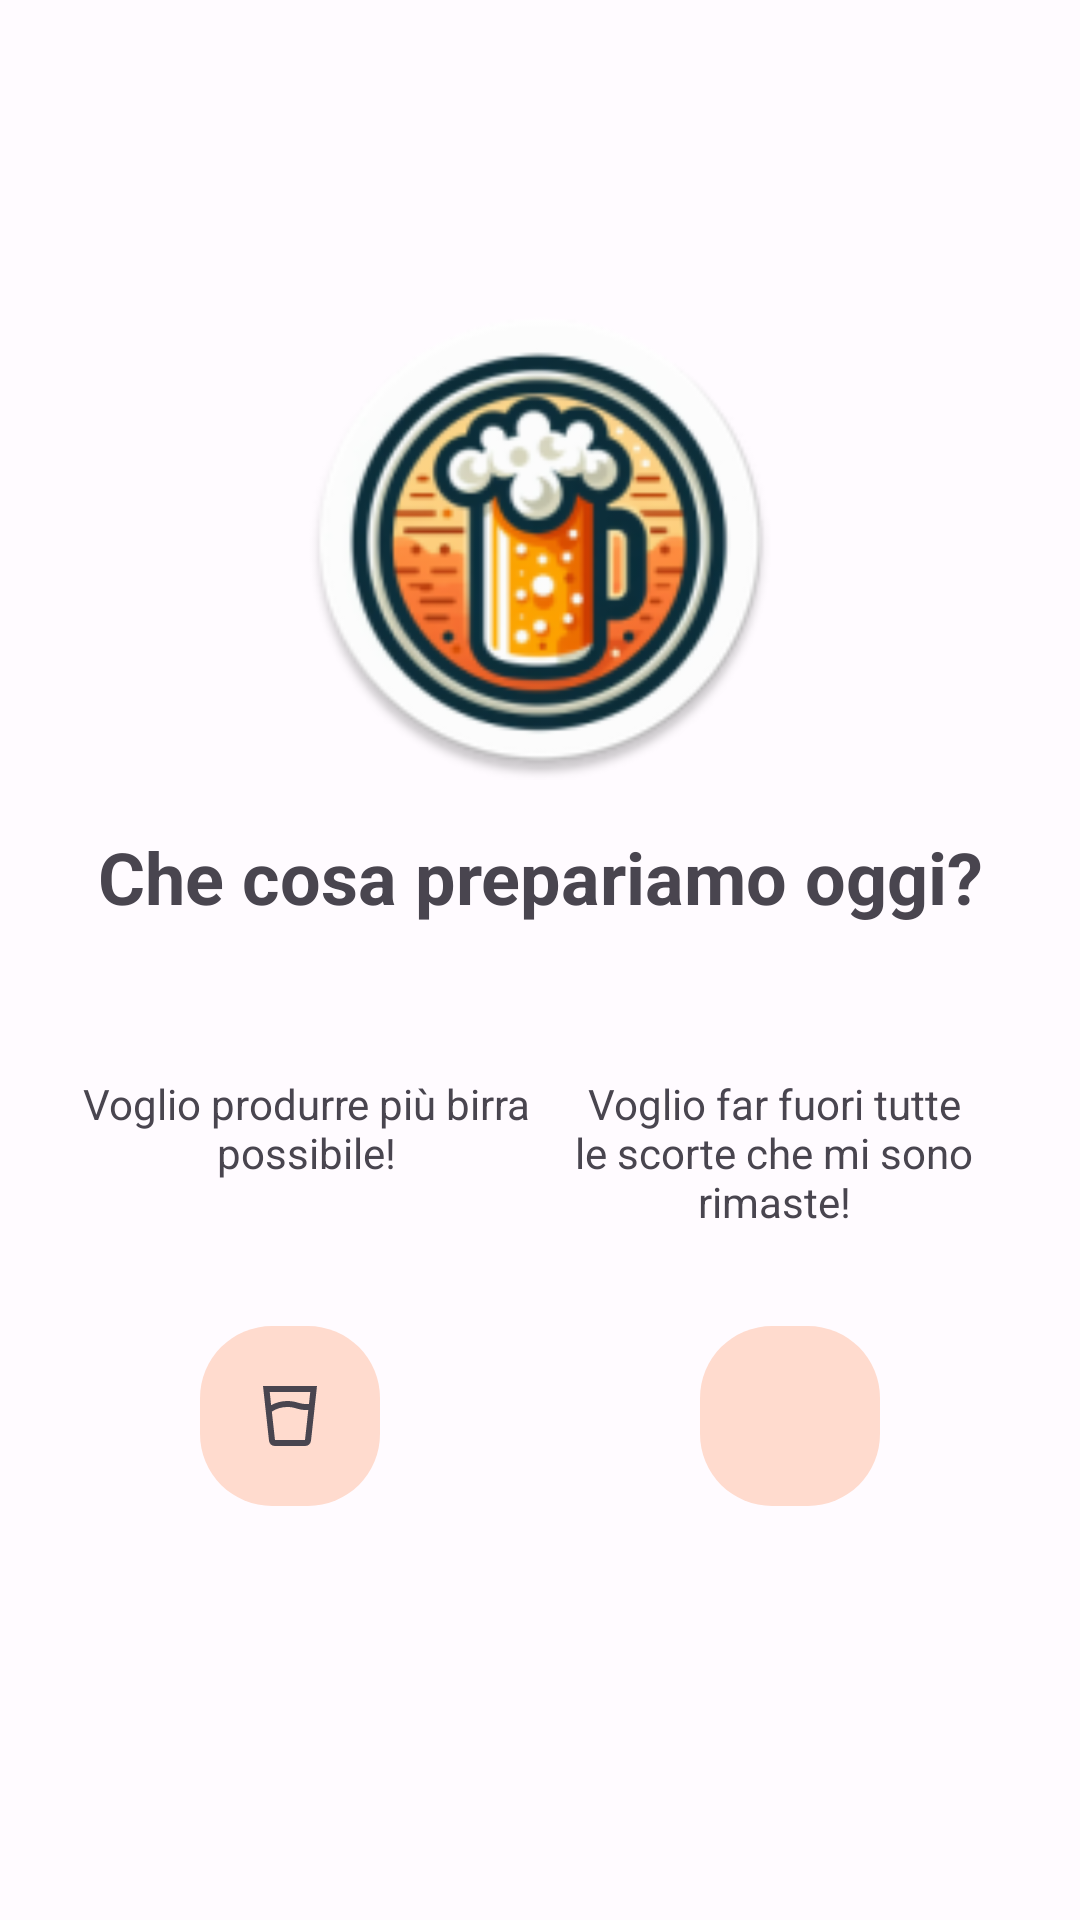

Icons on this 1080x1920 Android screen, each with the point to tap as (x=x, y=y):
Massimizza produzione litri: (x=290, y=1416)
